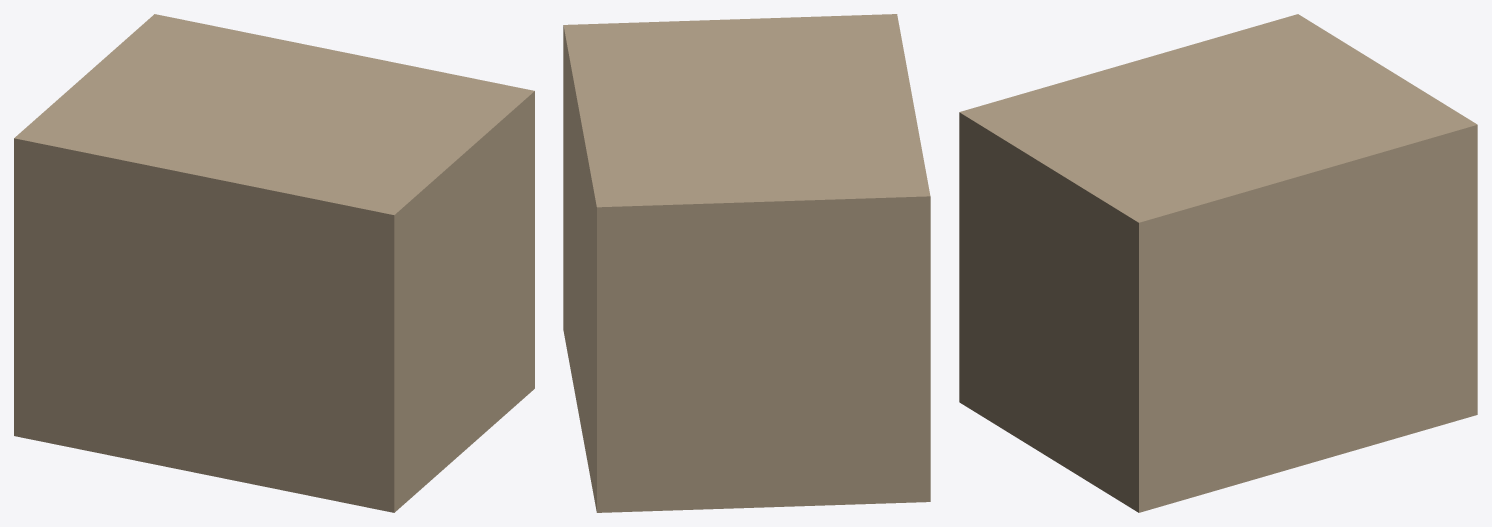
File: bld_163484447.dae
The picture shows the model from 3 angles, left to right: view 1: azimuth 30°, elevation 25°; view 2: azimuth 150°, elevation 25°; view 3: azimuth 270°, elevation 25°; orthographic projection. The views are drawn at different scales.
Parts seen in each view (by area): view 1: bld_163484447; view 2: bld_163484447; view 3: bld_163484447.
Part boxes in pixels (x1=…): bld_163484447: x1=14, y1=14, x2=534, y2=512; bld_163484447: x1=563, y1=14, x2=930, y2=512; bld_163484447: x1=959, y1=14, x2=1477, y2=512.
Bounding box in the file's own units: 12.35 × 12.96 × 8.
